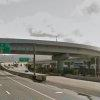Bridge: (4, 32, 95, 65)
